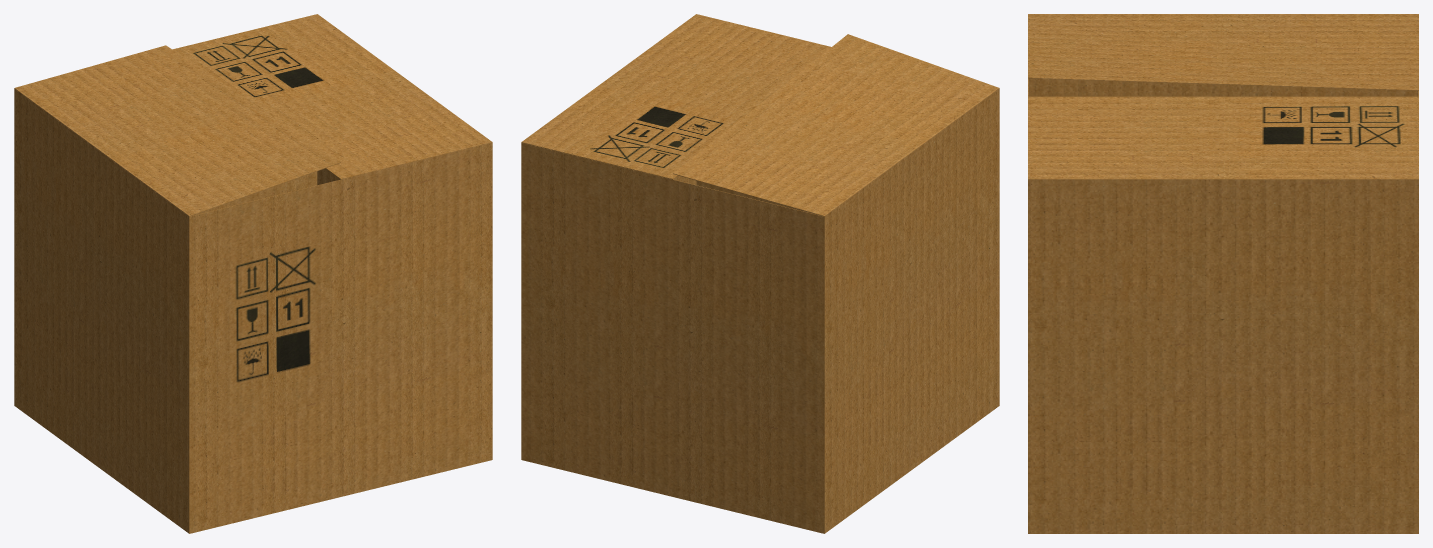
File: cardboardboxmodelo.glb
3 views of the same model, side by side, from view 1: azimuth 30°, elevation 25°; view 2: azimuth 150°, elevation 25°; view 3: azimuth 270°, elevation 25° (orthographic). The views are drawn at different scales.
Parts seen in each view (by area): view 1: Cubo; view 2: Cubo; view 3: Cubo.
Part boxes in pixels (bbox=[...]): Cubo: bbox=[14, 14, 492, 533]; Cubo: bbox=[521, 14, 999, 533]; Cubo: bbox=[1028, 14, 1418, 533].
Size of the model in its own units: 0.5 by 0.5278 by 0.5.
Materials: 2 (2 with a texture image).
